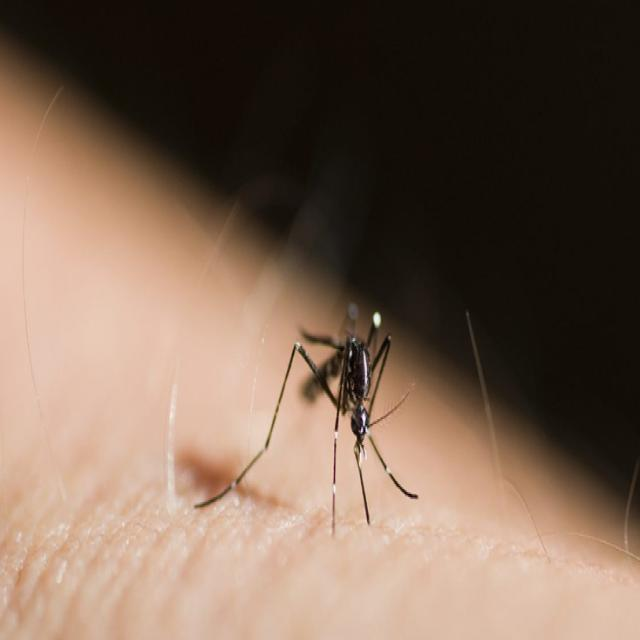Mosquito: (205, 306, 426, 548)
